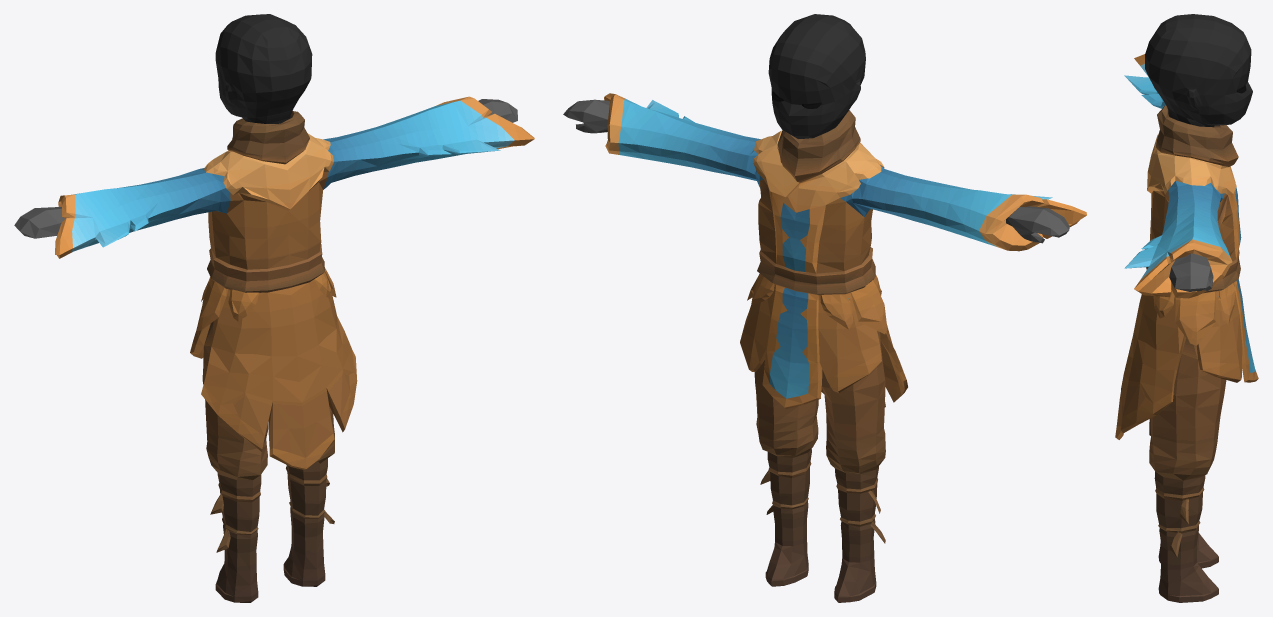
File: CharSkyKid_Body_AP12GradientTunic_01.glb
3 renders of one model, left to right at view 1: azimuth 30°, elevation 25°; view 2: azimuth 150°, elevation 25°; view 3: azimuth 270°, elevation 25°, orthographic.
Visible parts, largest first — view 1: CharSkyKid_Body_AP12GradientTunic_01; view 2: CharSkyKid_Body_AP12GradientTunic_01; view 3: CharSkyKid_Body_AP12GradientTunic_01.
Boxes of the visible parts, x1=… form: CharSkyKid_Body_AP12GradientTunic_01: x1=14, y1=14, x2=534, y2=602; CharSkyKid_Body_AP12GradientTunic_01: x1=563, y1=14, x2=1086, y2=602; CharSkyKid_Body_AP12GradientTunic_01: x1=1115, y1=14, x2=1258, y2=602.
Bounding box in the file's own units: 13.86 × 14.96 × 3.48.
1 material, 1 textured.
